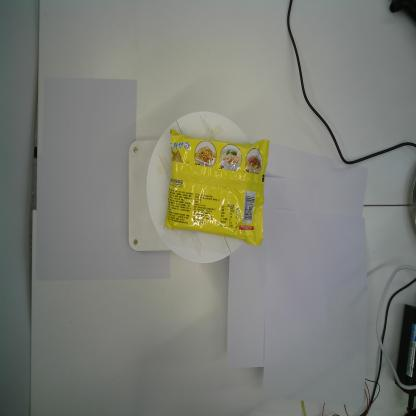Instant Noodles: (162, 129, 270, 247)
